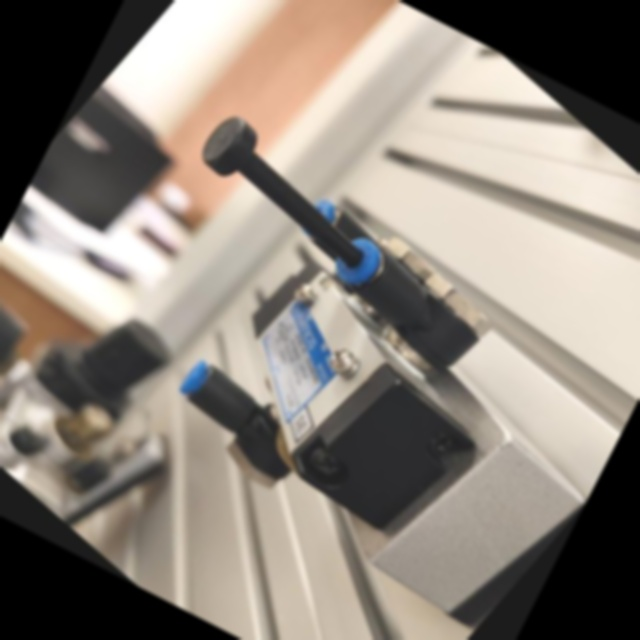5by2 DCV: (0, 45, 640, 640)
